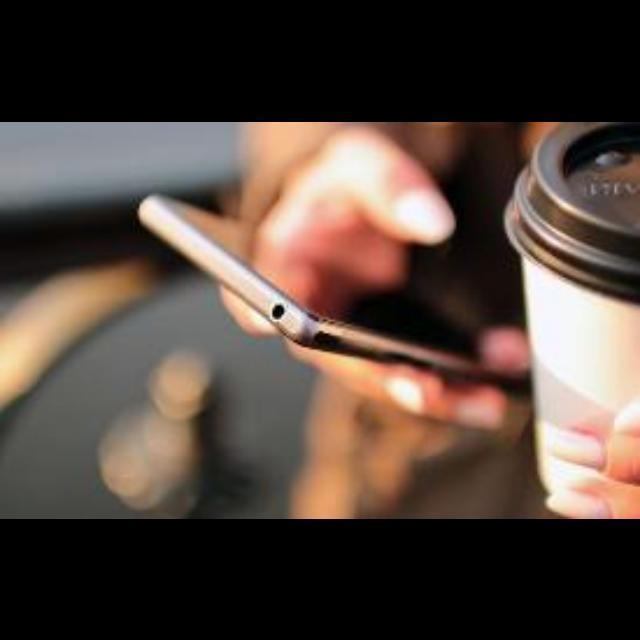phone: (106, 151, 554, 467)
